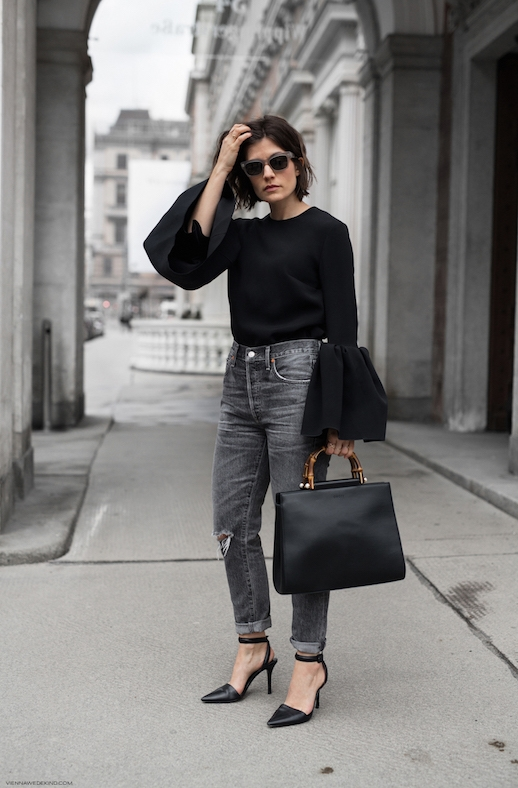jeans: (213, 336, 328, 640)
sunglasses: (237, 156, 289, 178)
